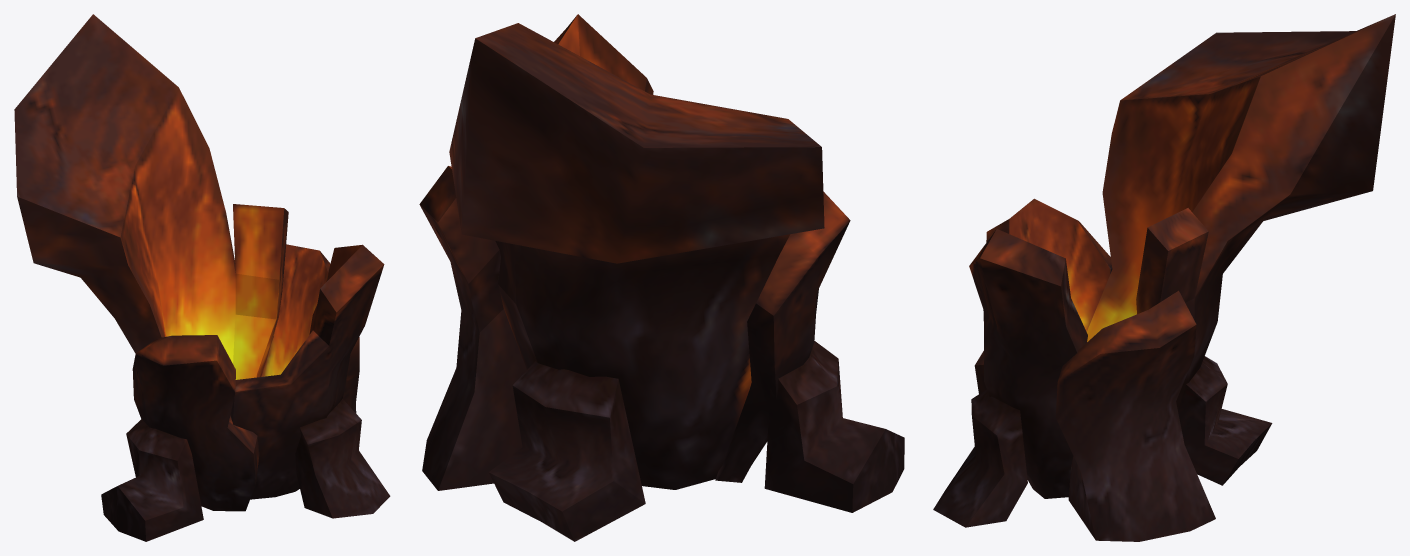
The model's file is huoguanpenghuoshizhu01.FBX.
3 renders of one model, left to right at view 1: azimuth 30°, elevation 25°; view 2: azimuth 150°, elevation 25°; view 3: azimuth 270°, elevation 25°, orthographic. The views are drawn at different scales.
Visible parts, largest first — view 1: huoguanpenghuoshizhu1; view 2: huoguanpenghuoshizhu1; view 3: huoguanpenghuoshizhu1.
Part boxes in pixels (x1,y1,x2,y2): huoguanpenghuoshizhu1: (14,14,390,541); huoguanpenghuoshizhu1: (419,14,904,541); huoguanpenghuoshizhu1: (933,14,1395,541).
Size of the model in its own units: 342 by 396 by 422.
